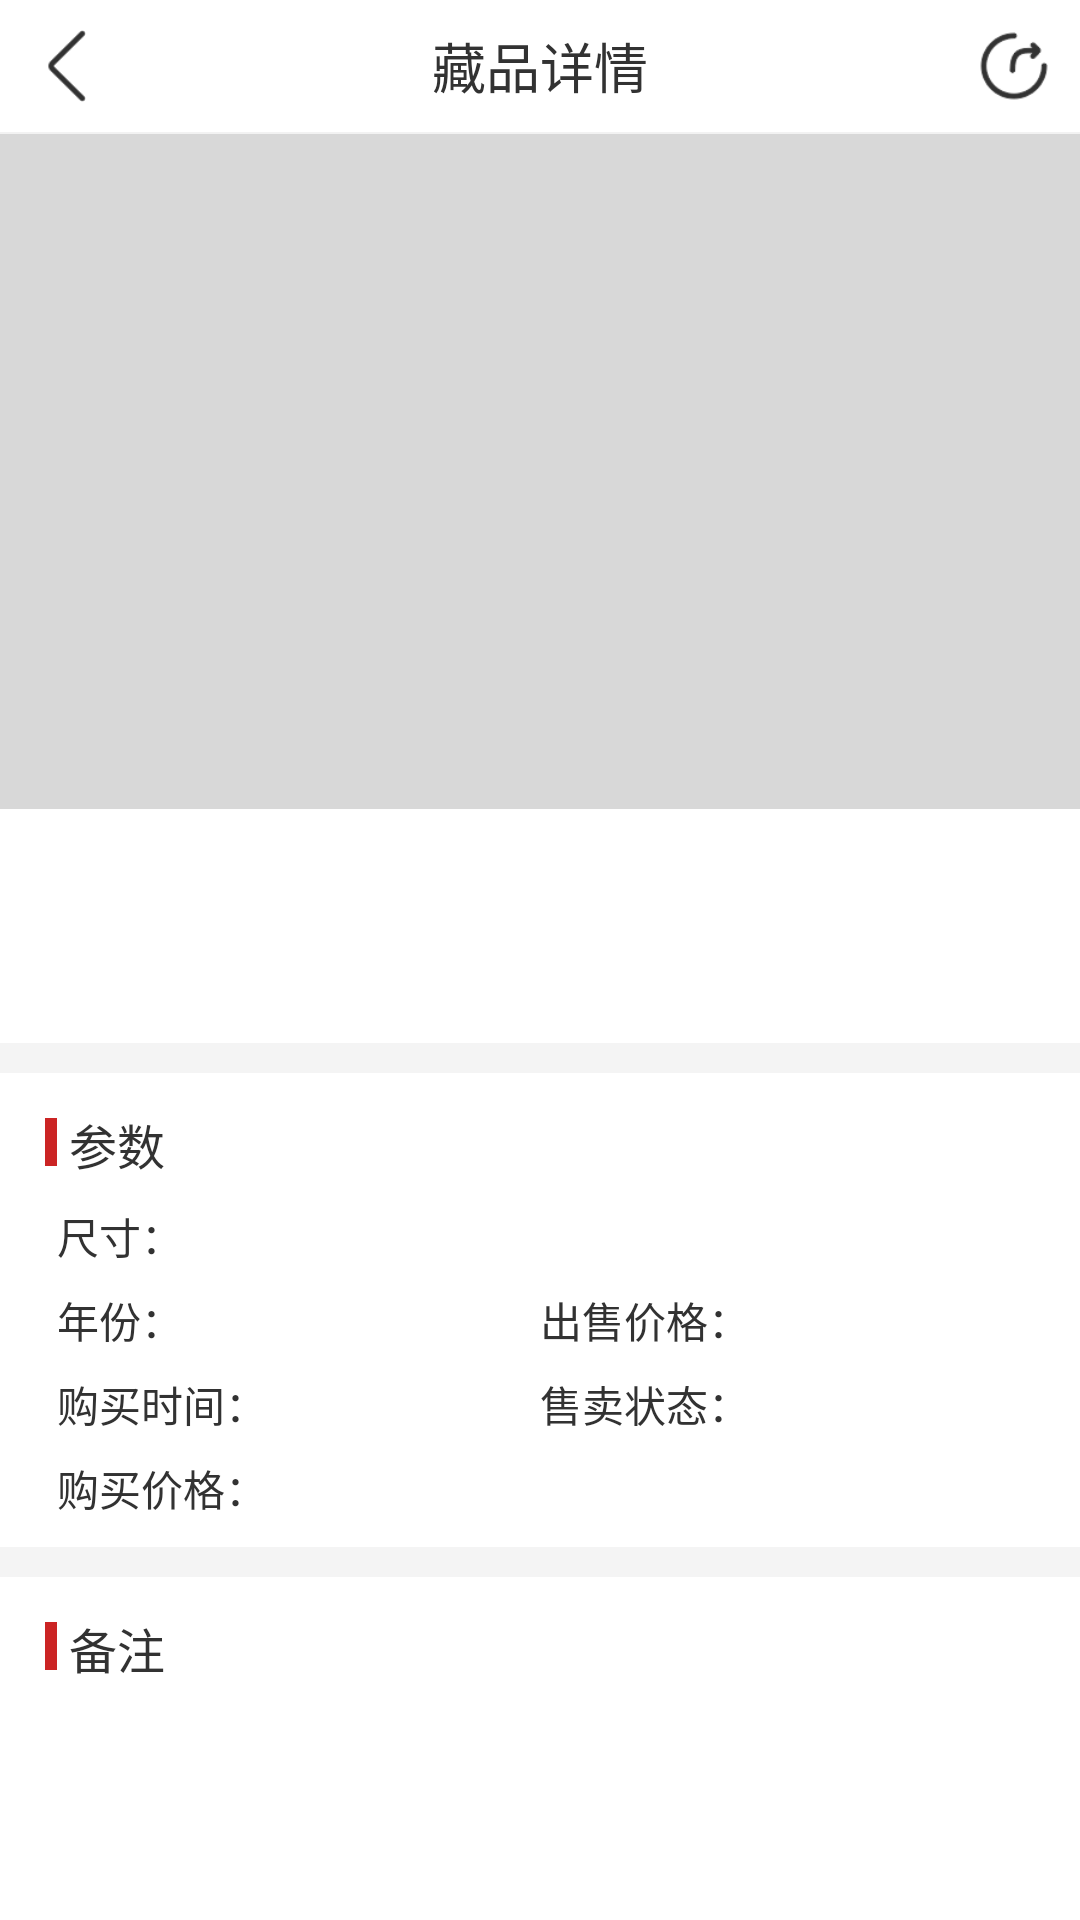

Screen size 1080 x 1920. Icon name, then its box in pixels as (x1, y1, x2, y2):
back: (48, 30, 86, 102)
